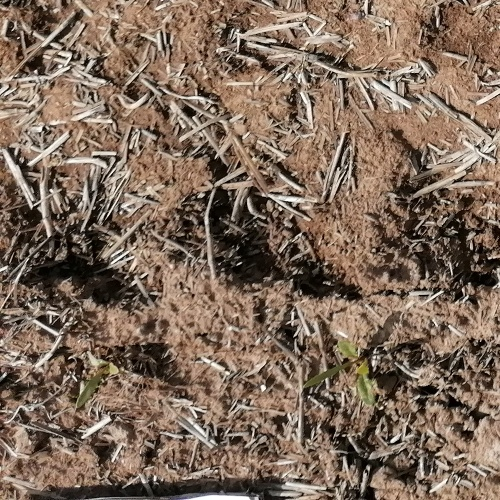beet: (300, 343, 378, 405), (71, 367, 106, 415)
